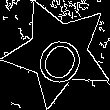O_NE: (27, 20, 90, 86)
